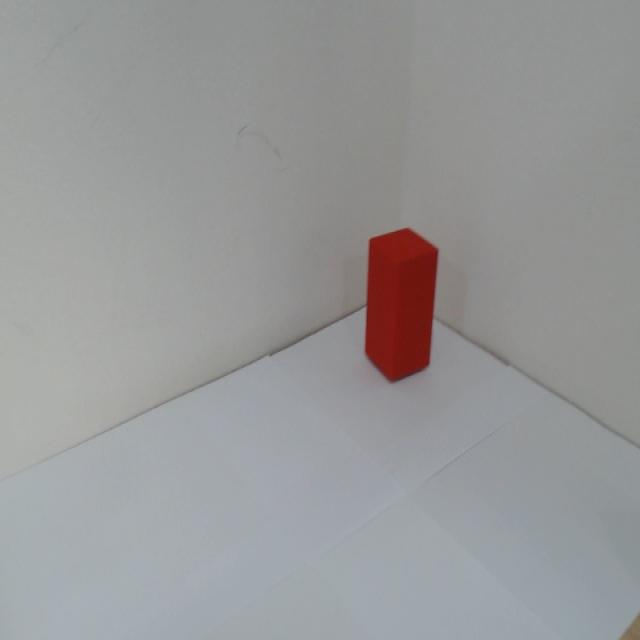cube: (357, 220, 442, 387)
